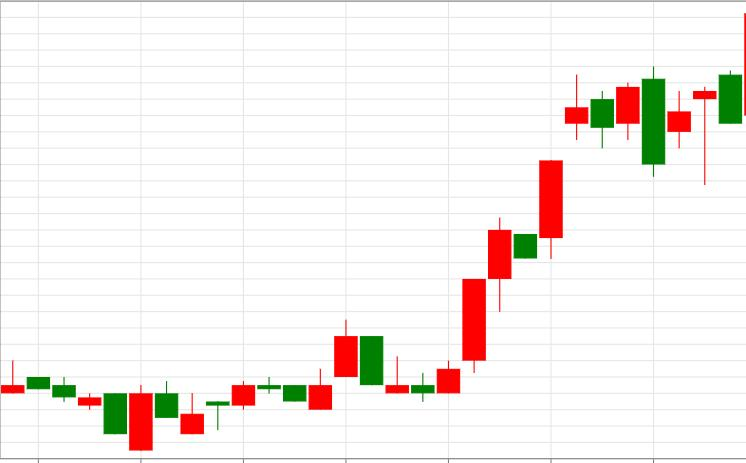bearish_engulfing_fall: (437, 67, 665, 394)
